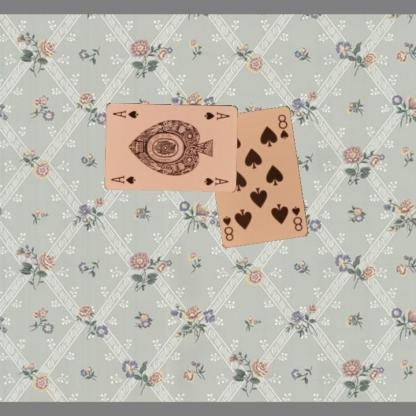8s: (289, 204, 304, 232)
As: (202, 109, 231, 121), (109, 173, 136, 185)
